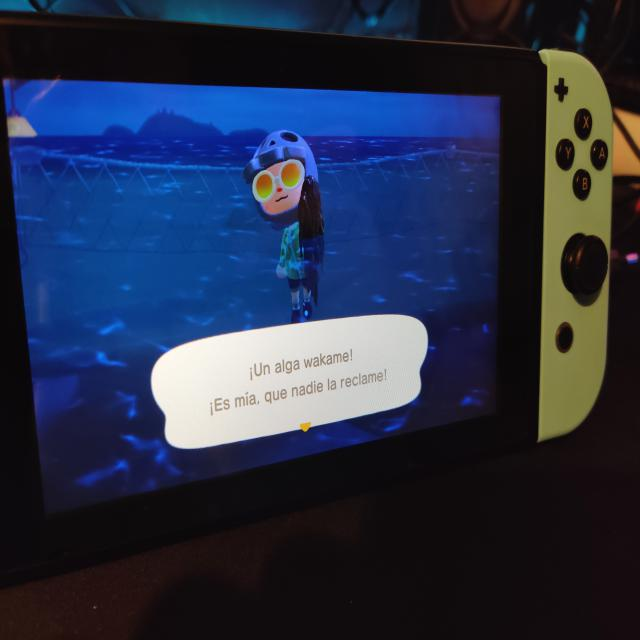text_bubble: (149, 310, 432, 454)
